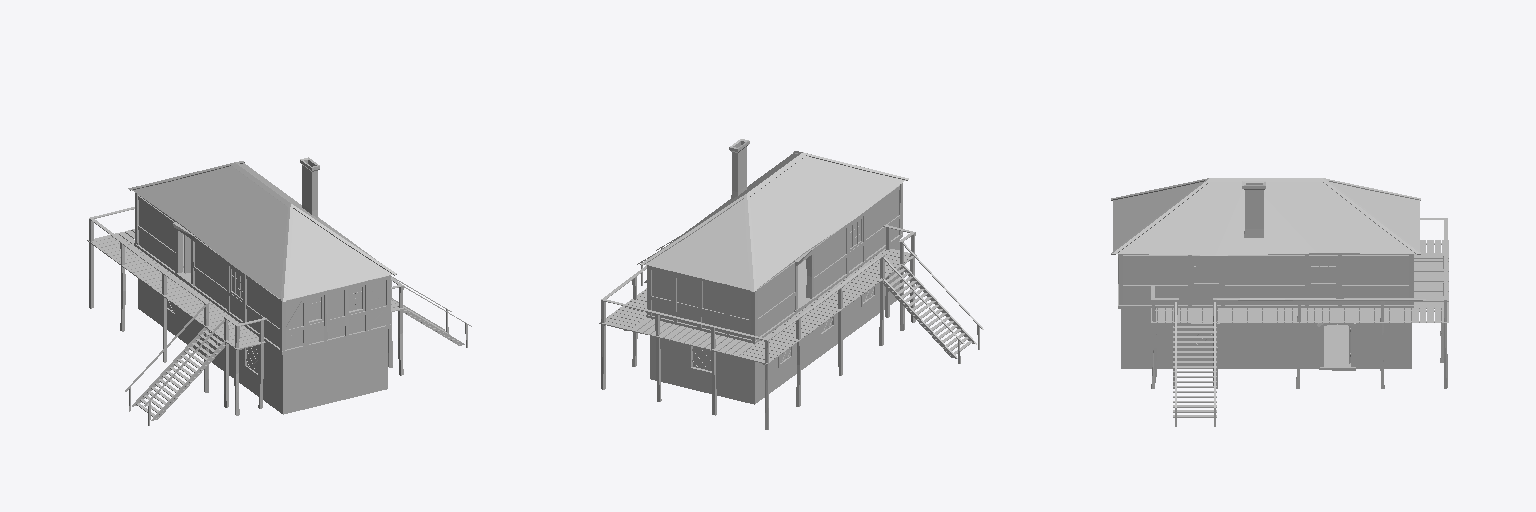
Rendered from Casa02.obj.
3 renders of one model, left to right at view 1: azimuth 30°, elevation 25°; view 2: azimuth 150°, elevation 25°; view 3: azimuth 270°, elevation 25°, orthographic.
Visible parts, largest first — view 1: House_Cube.020, Glass_Cube.026; view 2: House_Cube.020, Glass_Cube.026; view 3: House_Cube.020, Glass_Cube.026.
Part boxes in pixels (left/top/right/bottom): House_Cube.020: left=87, top=157, right=471, bottom=425; Glass_Cube.026: left=167, top=270, right=361, bottom=372; House_Cube.020: left=599, top=139, right=983, bottom=429; Glass_Cube.026: left=693, top=220, right=873, bottom=370; House_Cube.020: left=1111, top=178, right=1448, bottom=426; Glass_Cube.026: left=1193, top=261, right=1335, bottom=346.
Size of the model in its own units: 15.6 by 8.44 by 13.95.